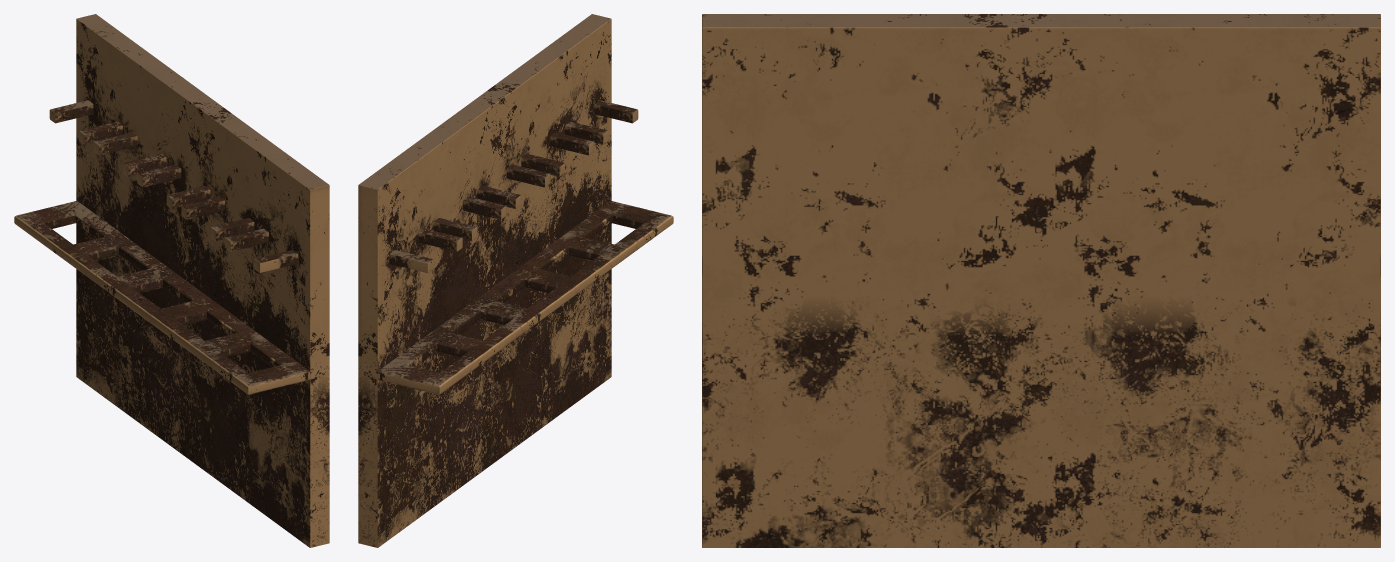
Rendered from Upper_Weapon_rack.fbx.
The picture shows the model from 3 angles, left to right: view 1: azimuth 30°, elevation 25°; view 2: azimuth 150°, elevation 25°; view 3: azimuth 270°, elevation 25°; orthographic projection. The views are drawn at different scales.
Visible parts, largest first — view 1: polySurface3; view 2: polySurface3; view 3: polySurface3.
Part boxes in pixels (x1=…): polySurface3: x1=14, y1=14, x2=329, y2=547; polySurface3: x1=358, y1=14, x2=673, y2=547; polySurface3: x1=702, y1=14, x2=1380, y2=547.
Bounding box in the file's own units: 102 × 429 × 507.
Materials: 1 (1 with a texture image).
